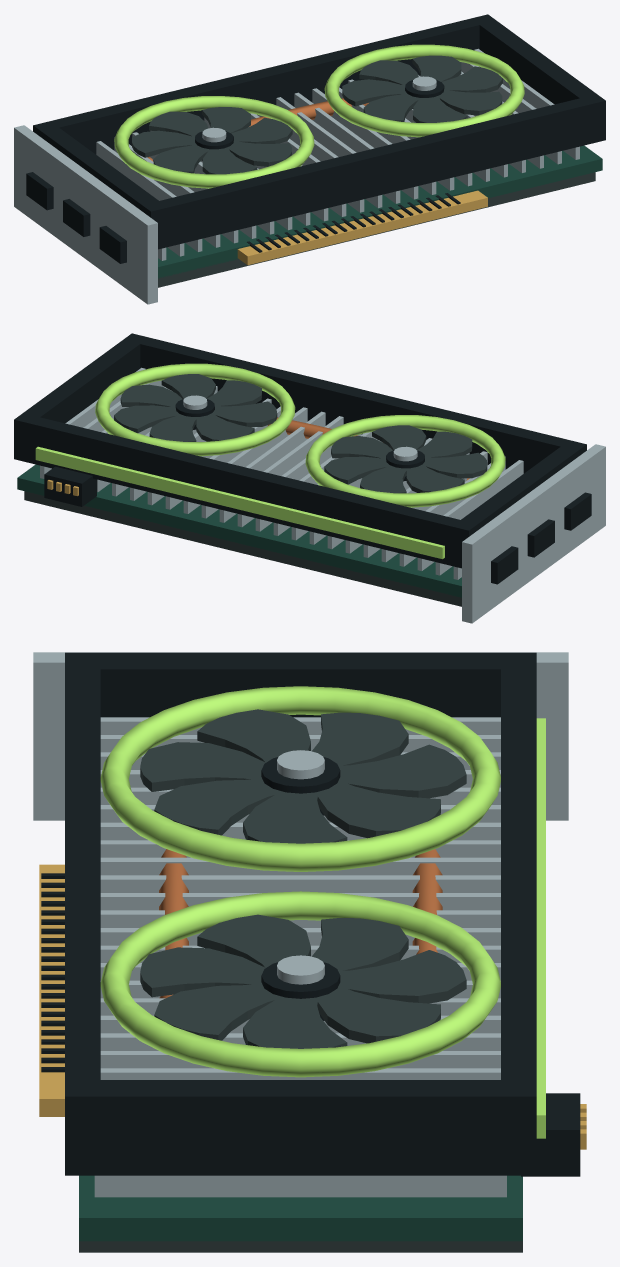
File: gpu-dual.glb
3 renders of one model, top to bottom at view 1: azimuth 30°, elevation 25°; view 2: azimuth 150°, elevation 25°; view 3: azimuth 270°, elevation 25°, orthographic. The views are drawn at different scales.
Visible parts, largest first — view 1: Rubber and ABS, Brushed aluminium, Anodized graphite (×2), Lime accents, gpu-dual, Contacts, fan-rotor (×2), Copper heat pipes; view 2: Rubber and ABS, Brushed aluminium, Lime accents, Anodized graphite (×2), gpu-dual, fan-rotor (×2), Copper heat pipes; view 3: Rubber and ABS, Anodized graphite (×2), Brushed aluminium, Lime accents, gpu-dual, fan-rotor (×2), Contacts, Copper heat pipes.
Part boxes in pixels (<box>): Rubber and ABS: <box>26,14,605,263</box>; Brushed aluminium: <box>14,48,579,304</box>; Anodized graphite (×2): <box>132,55,502,174</box>; Lime accents: <box>114,44,524,188</box>; gpu-dual: <box>158,145,602,287</box>; Contacts: <box>237,190,487,265</box>; fan-rotor (×2): <box>195,76,444,160</box>; Copper heat pipes: <box>147,98,368,161</box>; Rubber and ABS: <box>14,333,591,584</box>; Brushed aluminium: <box>40,367,605,623</box>; Lime accents: <box>35,363,505,559</box>; Anodized graphite (×2): <box>114,374,487,493</box>; gpu-dual: <box>17,464,461,606</box>; fan-rotor (×2): <box>175,395,424,481</box>; Copper heat pipes: <box>268,417,469,480</box>; Rubber and ABS: <box>41,652,580,1176</box>; Anodized graphite (×2): <box>140,709,466,1048</box>; Brushed aluminium: <box>33,652,568,1197</box>; Lime accents: <box>100,686,545,1138</box>; gpu-dual: <box>79,1175,522,1252</box>; fan-rotor (×2): <box>261,750,340,1020</box>; Contacts: <box>39,864,586,1149</box>; Copper heat pipes: <box>159,849,442,998</box>.
Size of the model in its own units: 2.75 by 0.5085 by 1.4.
